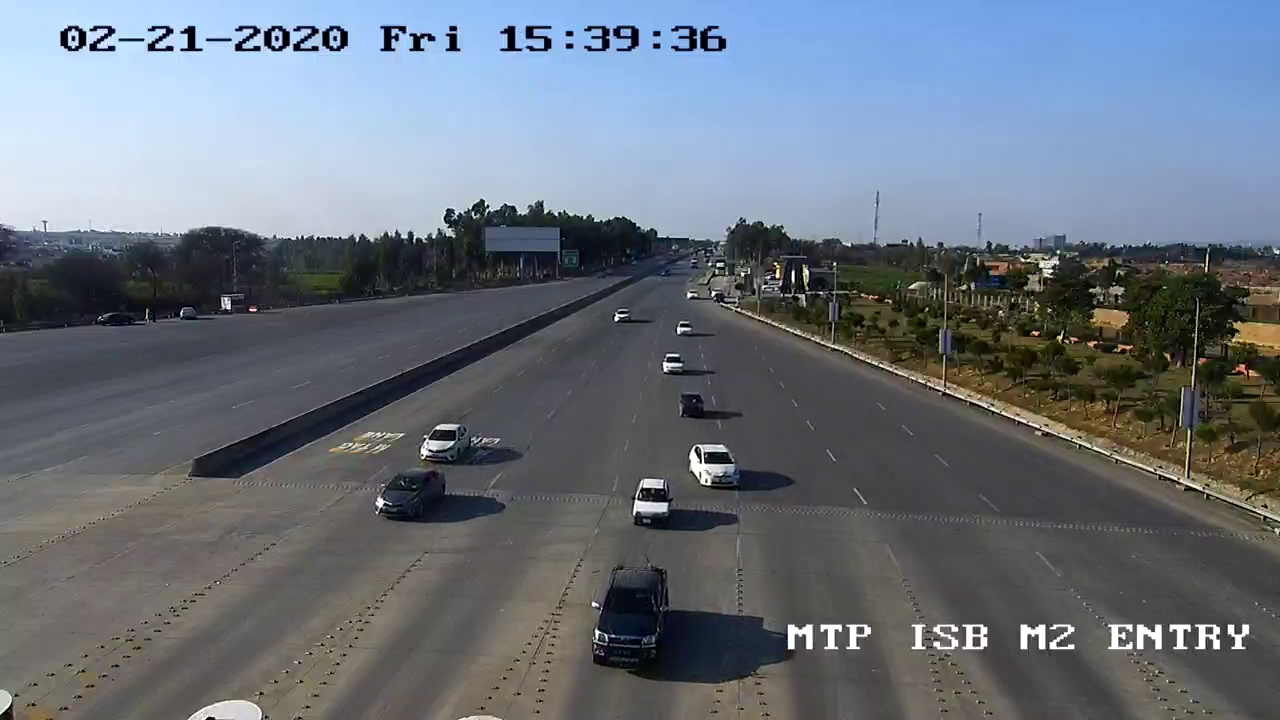f1: (579, 554, 692, 674), (362, 464, 459, 529), (684, 436, 743, 503), (622, 472, 682, 537), (412, 417, 479, 475)
